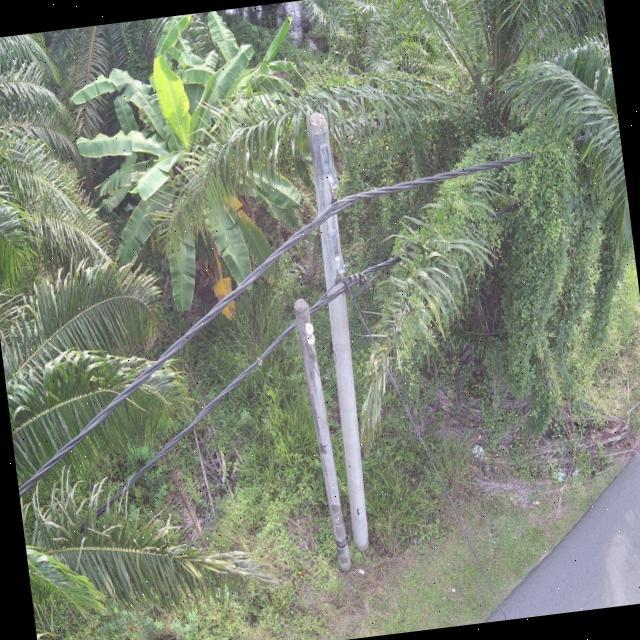critical vegetation: (485, 122, 611, 229)
